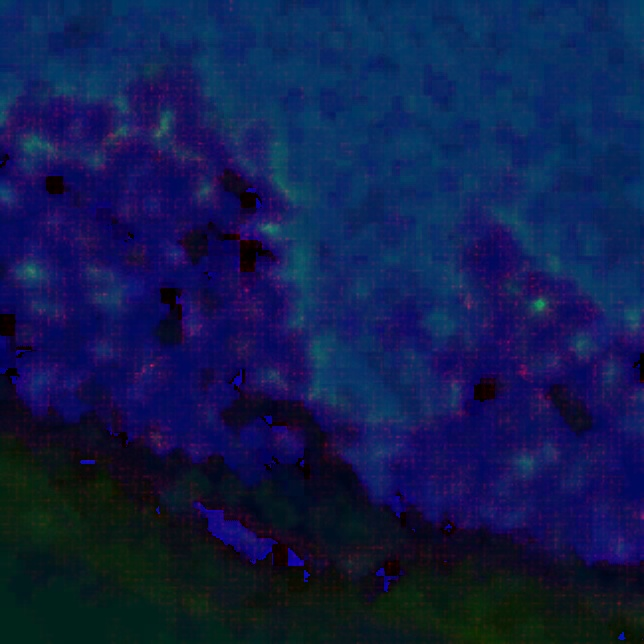rip_current: (192, 140, 534, 457)
